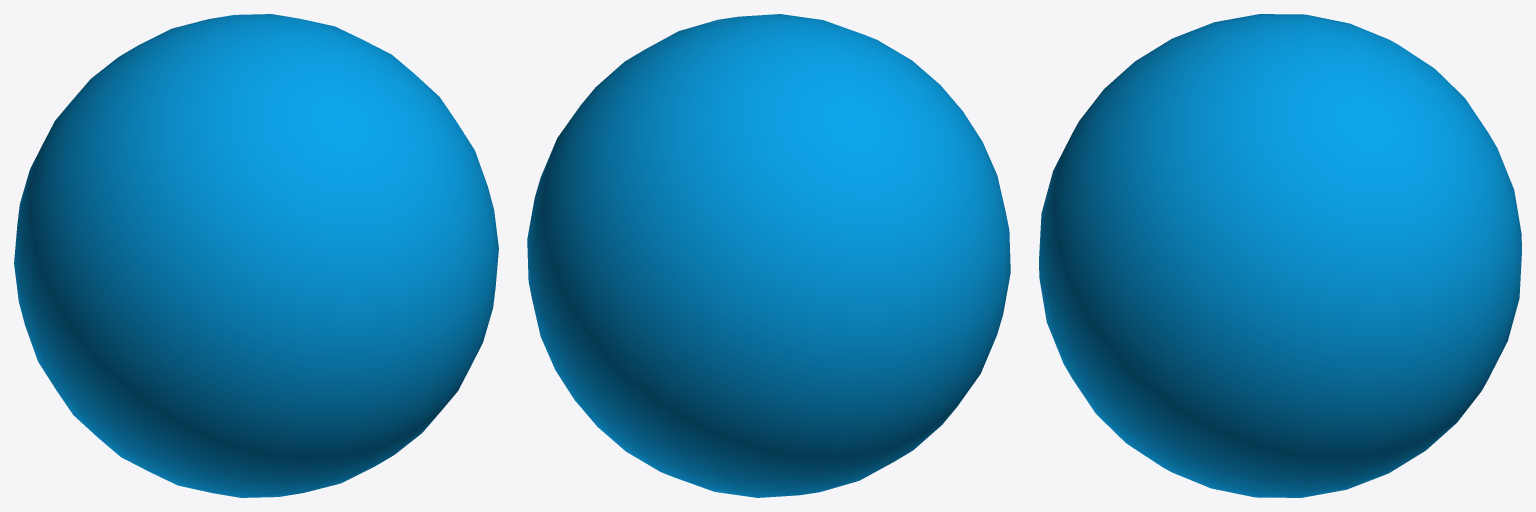
The model's file is Earth.glb.
3 views of the same model, side by side, from view 1: azimuth 30°, elevation 25°; view 2: azimuth 150°, elevation 25°; view 3: azimuth 270°, elevation 25° (orthographic).
Visible parts, largest first — view 1: Atmosphere._02; view 2: Atmosphere._02; view 3: Atmosphere._02.
Boxes of the visible parts, bbox=[...] form: Atmosphere._02: bbox=[14, 14, 498, 497]; Atmosphere._02: bbox=[527, 14, 1010, 497]; Atmosphere._02: bbox=[1039, 14, 1521, 497].
Bounding box in the file's own units: 6.63 × 6.66 × 6.63.
